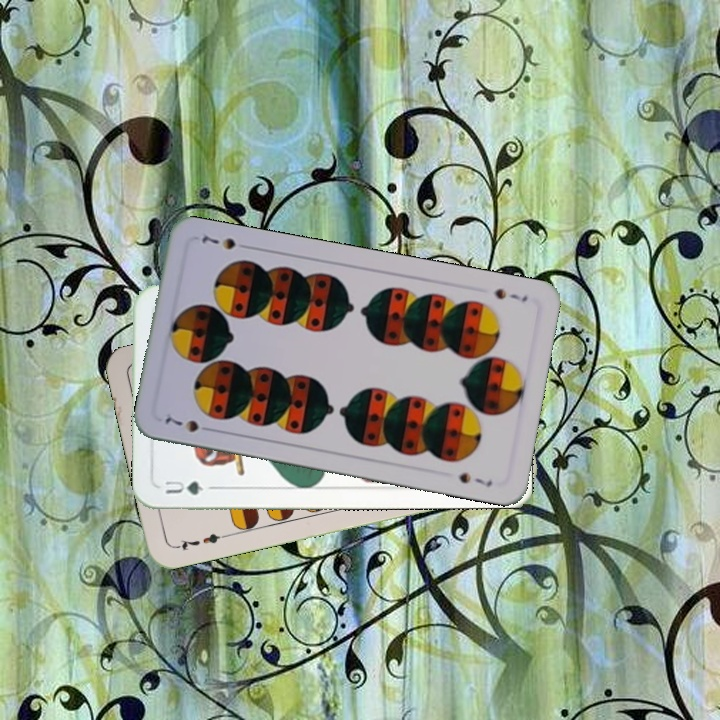E7: (171, 529, 229, 554)
GU: (161, 476, 216, 497)
S7: (157, 411, 216, 435), (490, 284, 530, 305)
